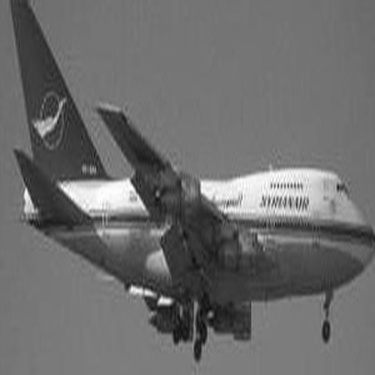airplane: (2, 2, 372, 373)
